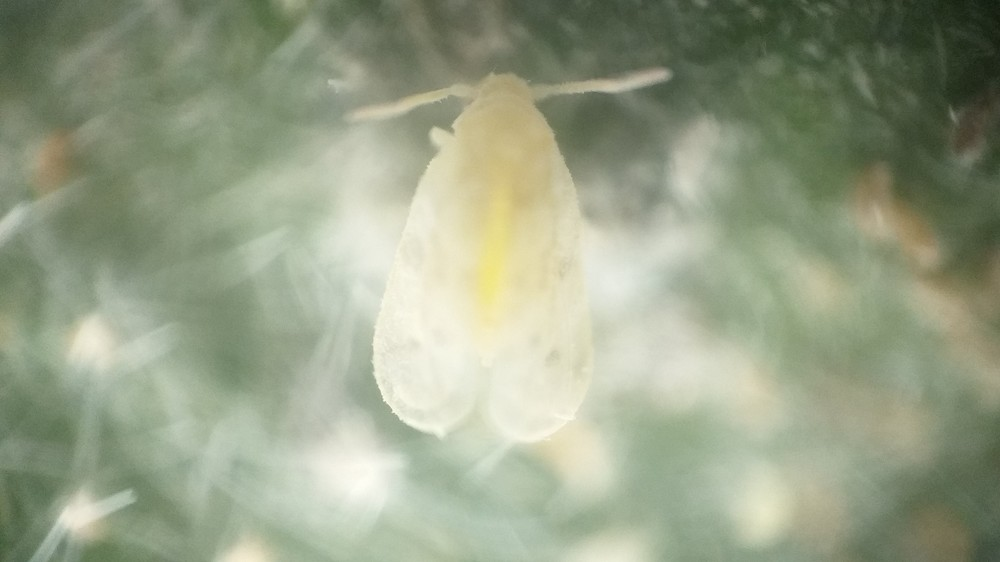Mosca Blanca: (342, 51, 693, 458)
